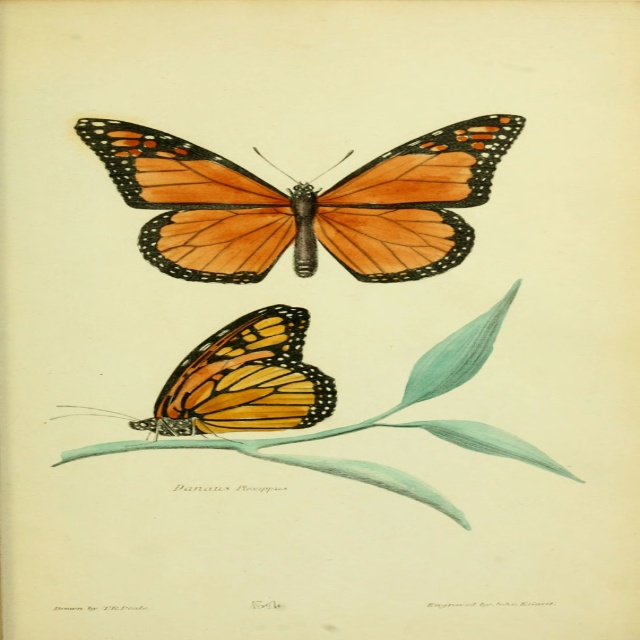Butterfly: (75, 108, 534, 282), (38, 301, 339, 444)
